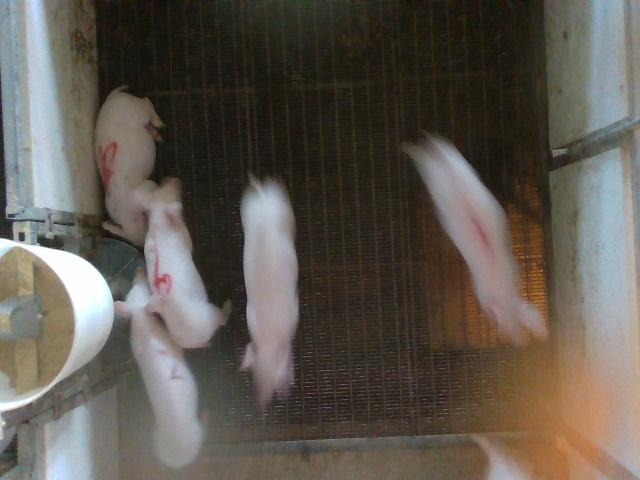pig-1: (402, 131, 548, 344)
pig-2: (115, 268, 202, 467)
pig-4: (135, 178, 229, 348)
pig-5: (95, 86, 164, 246)
